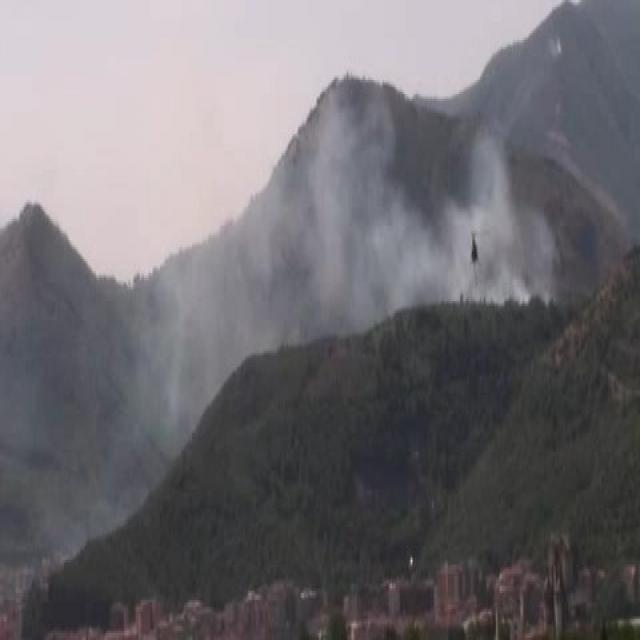smoke: (326, 94, 536, 314)
